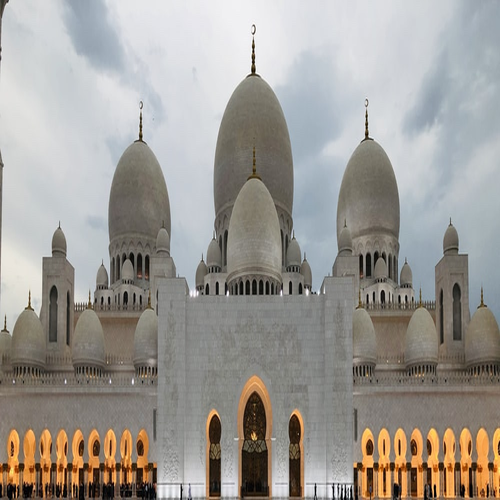Mosque: (19, 23, 495, 488)
